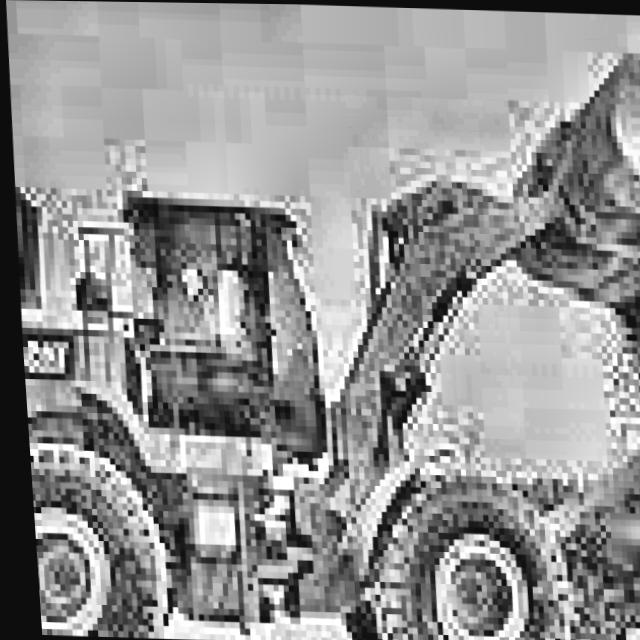buldozerpayloadergrader: (0, 7, 640, 640)
